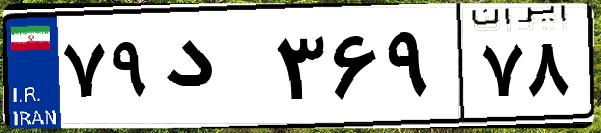3: (270, 28, 330, 110)
6: (330, 28, 385, 110)
7: (57, 26, 110, 100), (475, 38, 525, 113)
8: (525, 38, 570, 115)
9: (385, 28, 445, 110), (110, 28, 158, 98)
د: (158, 20, 270, 120)
